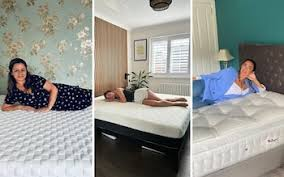bed-matress: (1, 86, 94, 177), (94, 88, 193, 142)
w: (192, 88, 283, 177)
